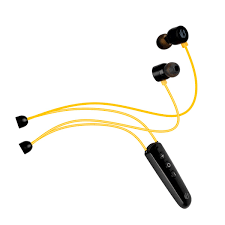earphone: (16, 22, 198, 210)
